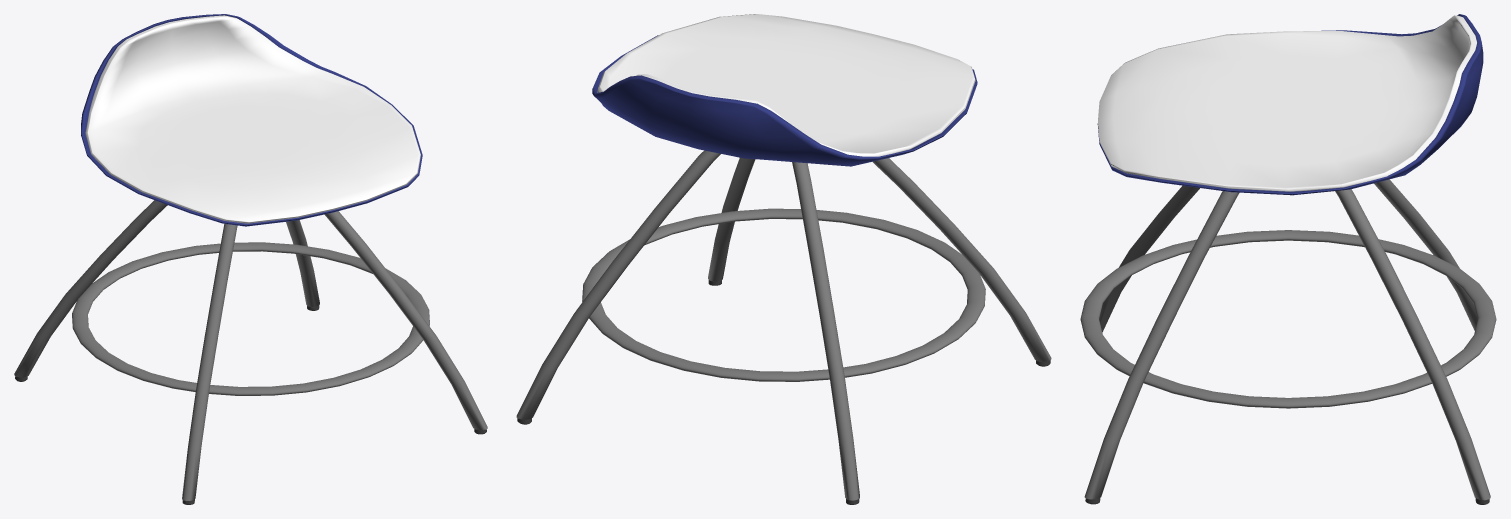
File: sh-scopia-kitchen-stool.glb
3 renders of one model, left to right at view 1: azimuth 30°, elevation 25°; view 2: azimuth 150°, elevation 25°; view 3: azimuth 270°, elevation 25°, orthographic. The views are drawn at different scales.
Parts seen in each view (by area): view 1: leather_stool_Circle.003, foot_stool_Mesh, base_stool_Circle.002; view 2: leather_stool_Circle.003, foot_stool_Mesh, base_stool_Circle.002; view 3: leather_stool_Circle.003, foot_stool_Mesh, base_stool_Circle.002.
Part boxes in pixels (x1,y1,x2,y2): leather_stool_Circle.003: (85, 15, 420, 223); foot_stool_Mesh: (14, 200, 487, 501); base_stool_Circle.002: (81, 14, 422, 226); leather_stool_Circle.003: (597, 14, 975, 156); foot_stool_Mesh: (516, 150, 1051, 500); base_stool_Circle.002: (592, 35, 977, 166); leather_stool_Circle.003: (1098, 15, 1476, 191); foot_stool_Mesh: (1080, 179, 1496, 500); base_stool_Circle.002: (1097, 14, 1483, 195).
Size of the model in its own units: 1 by 1 by 1.
